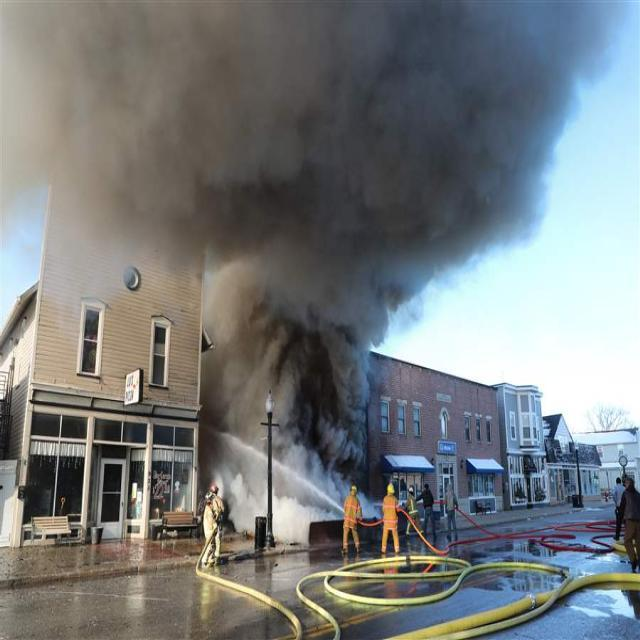Smoke: (4, 2, 596, 250), (212, 258, 380, 522)
